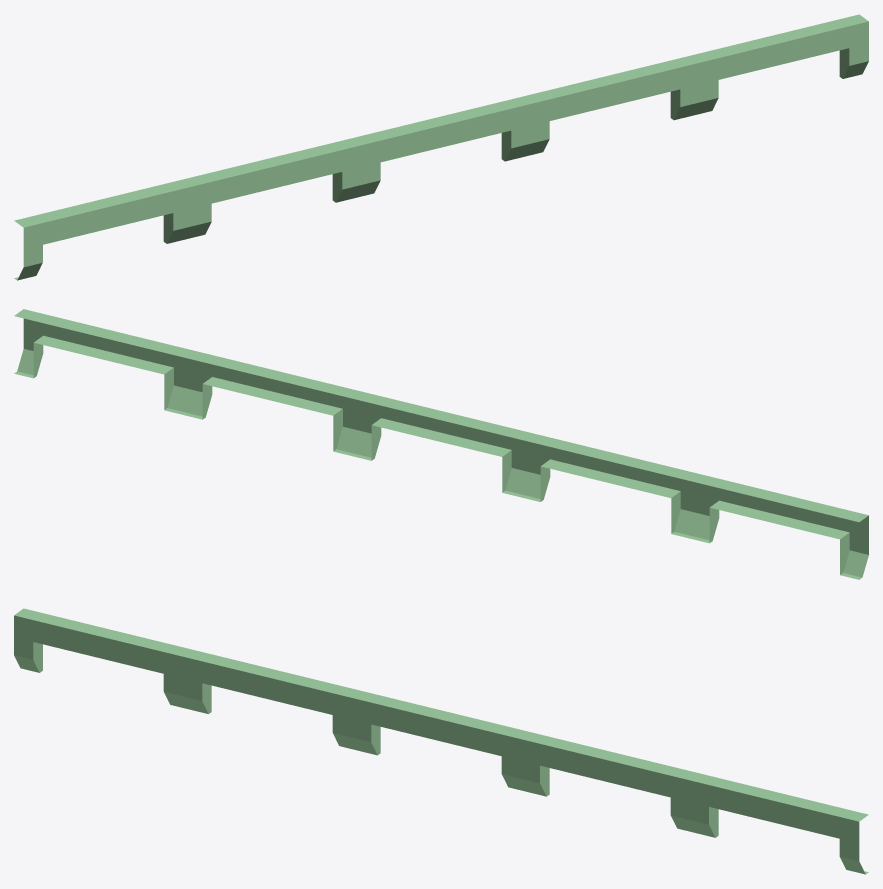
Rendered from SM_Modular_Trim_4.fbx.
3 renders of one model, top to bottom at view 1: azimuth 30°, elevation 25°; view 2: azimuth 150°, elevation 25°; view 3: azimuth 330°, elevation 25°, orthographic.
Visible parts, largest first — view 1: Plane.026; view 2: Plane.026; view 3: Plane.026.
Boxes of the visible parts, x1,y1,x2,y2 form: Plane.026: (14, 14, 868, 280); Plane.026: (14, 309, 868, 579); Plane.026: (14, 608, 868, 874).
Bounding box in the file's own units: 500 × 32.55 × 9.87.
